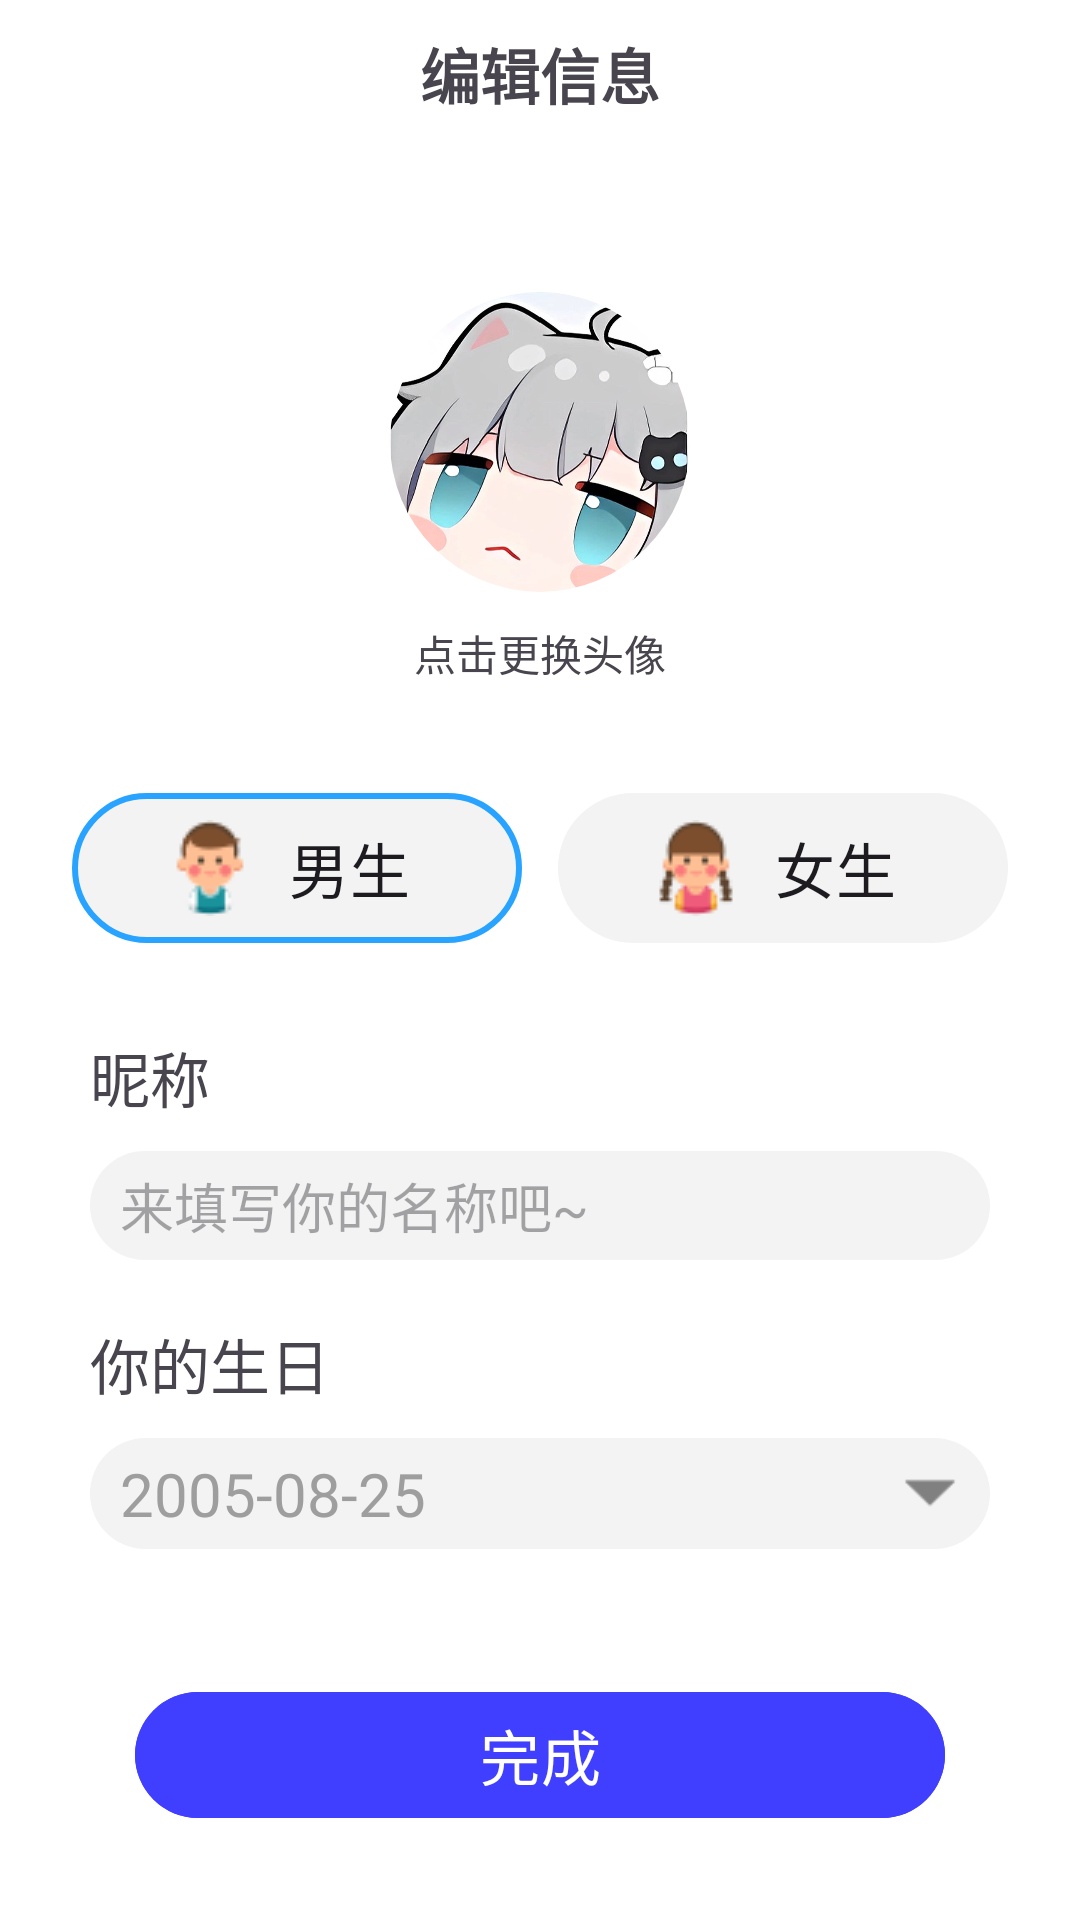

Where to tap for icons on this 1080 x 1920 app screen, as (x=x, y=y):
arrow down: (x=930, y=1493)
